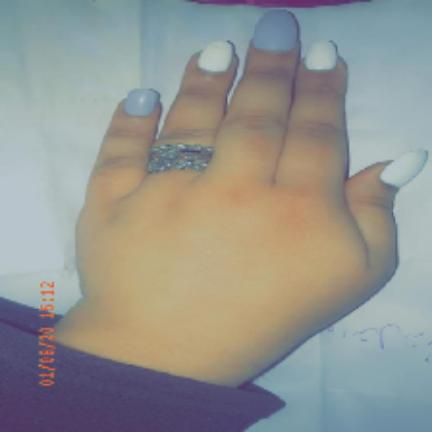Nail: (251, 10, 299, 51), (381, 150, 428, 187), (197, 41, 235, 73), (304, 40, 338, 70), (123, 89, 160, 116)
